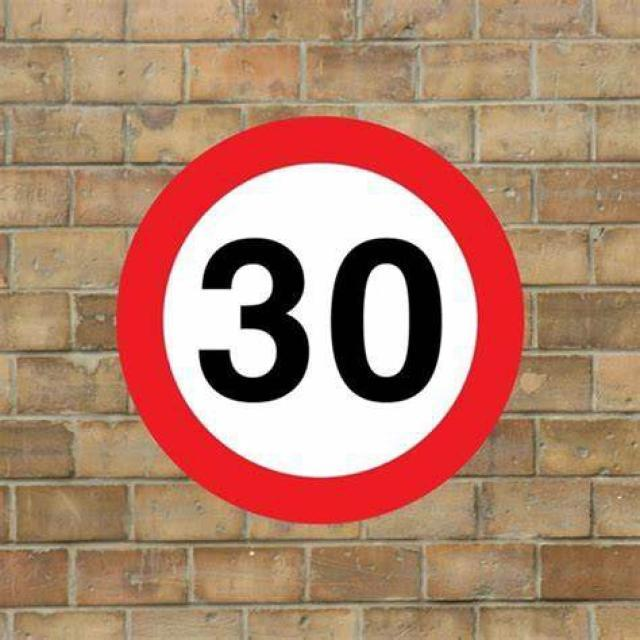speed limit 30: (116, 116, 524, 529)
